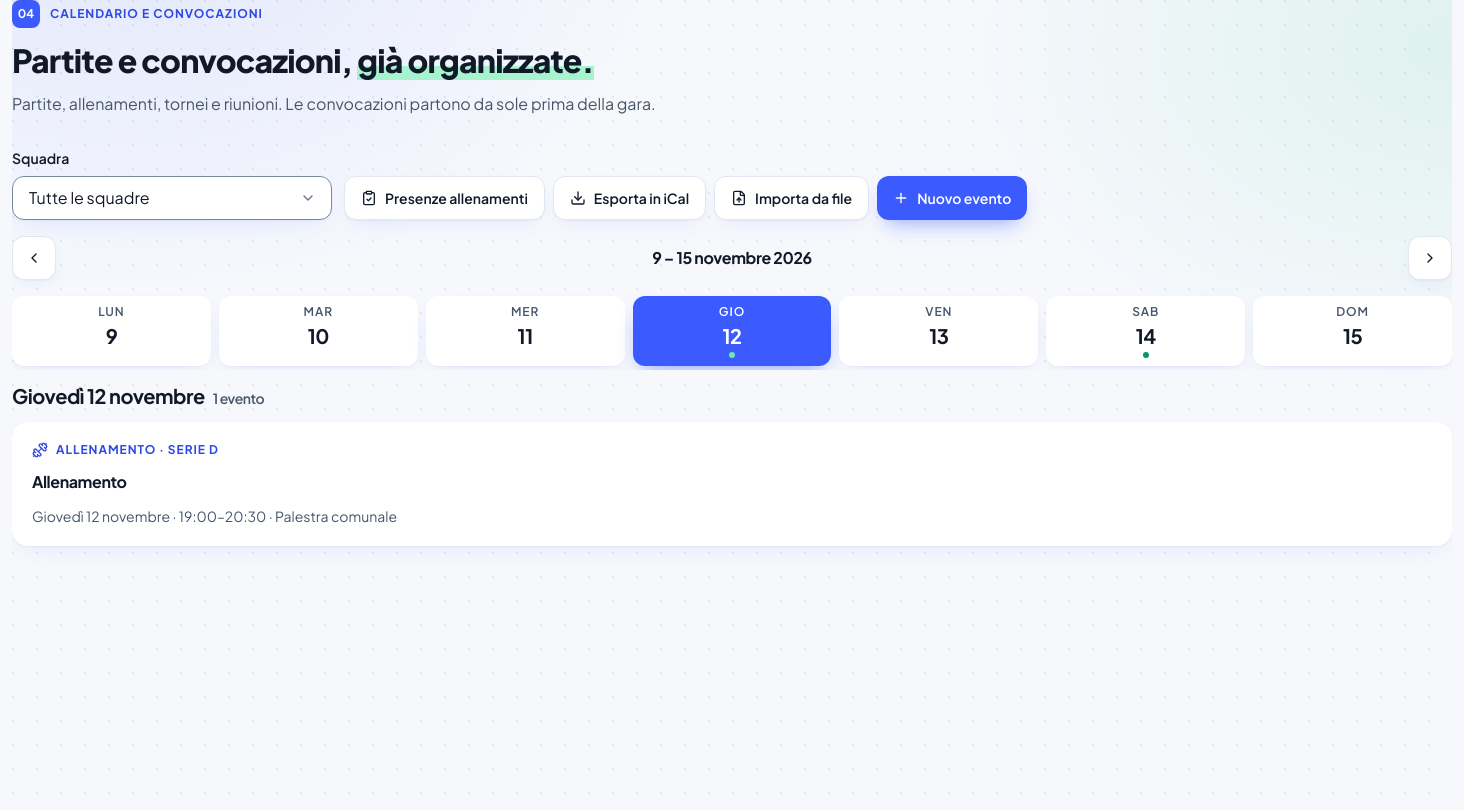
Test case: CalendarioPage week view › keeps the match card usable when the competitions cannot be read
This screenshot has width=1464, height=810.
Click the button named "sab 14 novembre, con eventi": (1146,331) [1046, 296, 1245, 366]
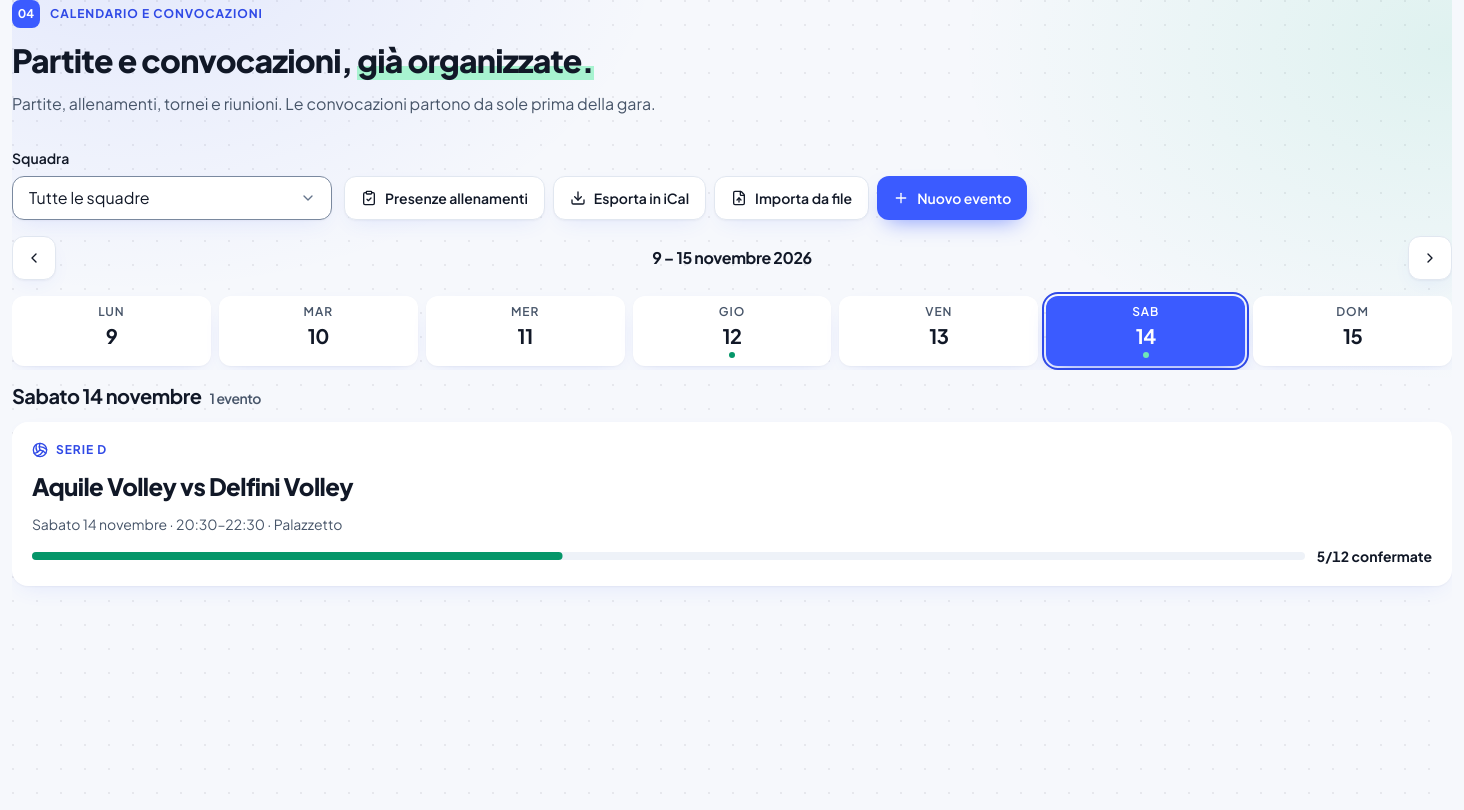
Expected: the text "Serie D" is shown, [56, 442, 107, 458]
Expected: the button "Aquile Volley vs Delfini Volley" is shown, [32, 470, 353, 502]
